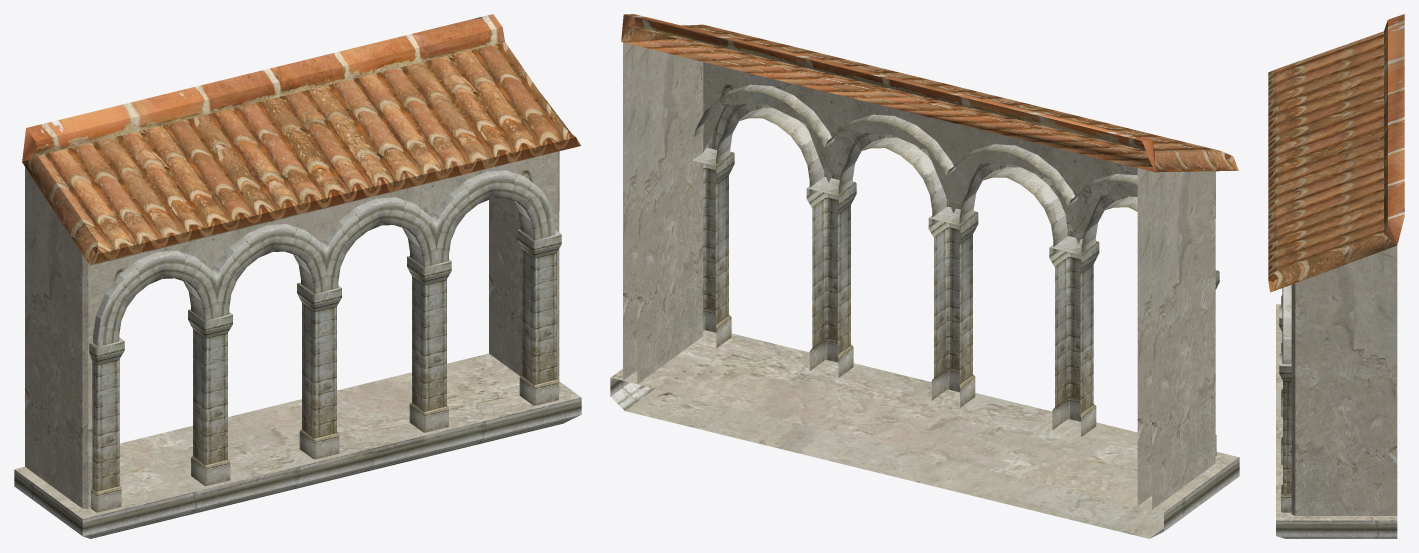
Rendered from bg_atm_aborder_abbeywindow01_sm_jjy.FBX.
3 renders of one model, left to right at view 1: azimuth 30°, elevation 25°; view 2: azimuth 150°, elevation 25°; view 3: azimuth 270°, elevation 25°, orthographic. The views are drawn at different scales.
Parts seen in each view (by area): view 1: bg_atm_aborder_abbeywindow01_sm_jjy; view 2: bg_atm_aborder_abbeywindow01_sm_jjy; view 3: bg_atm_aborder_abbeywindow01_sm_jjy.
Part boxes in pixels (<box>): bg_atm_aborder_abbeywindow01_sm_jjy: <box>14,14,581,538</box>; bg_atm_aborder_abbeywindow01_sm_jjy: <box>610,14,1239,538</box>; bg_atm_aborder_abbeywindow01_sm_jjy: <box>1268,14,1404,538</box>.
Bounding box in the file's own units: 324 × 224 × 86.26.
